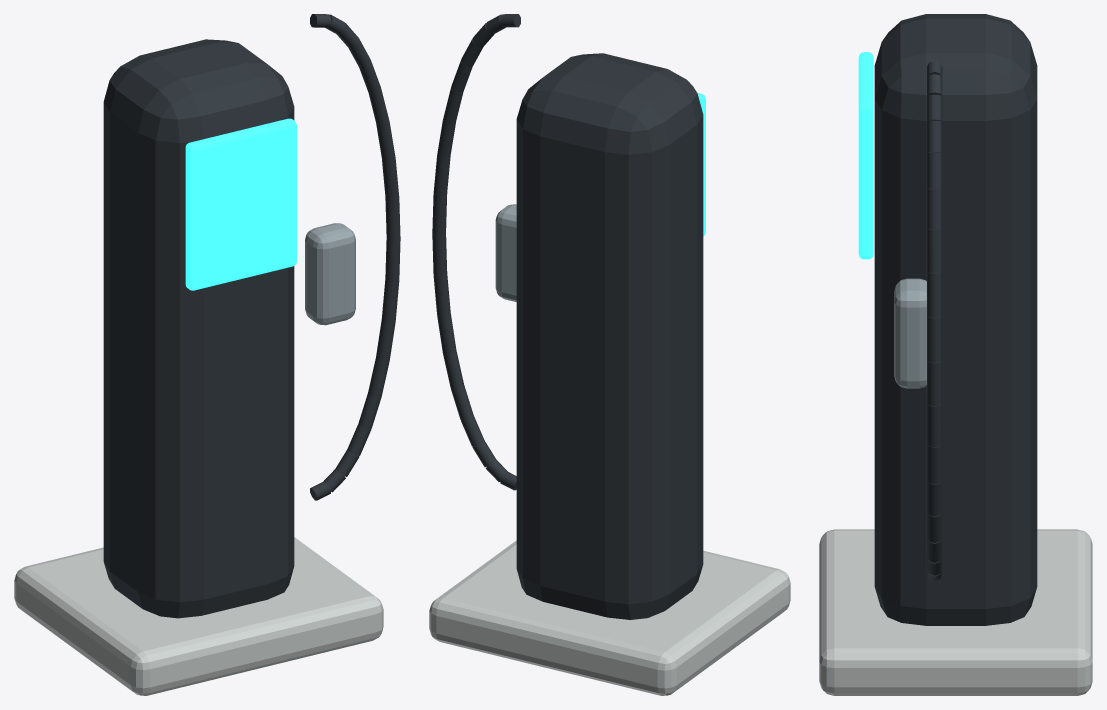
File: ChargePoint.fbx
3 renders of one model, left to right at view 1: azimuth 30°, elevation 25°; view 2: azimuth 150°, elevation 25°; view 3: azimuth 270°, elevation 25°, orthographic. The views are drawn at different scales.
Parts seen in each view (by area): view 1: ChargePoint; view 2: ChargePoint; view 3: ChargePoint.
Boxes of the visible parts, <box> form: ChargePoint: <box>14,14,400,695</box>; ChargePoint: <box>429,14,790,695</box>; ChargePoint: <box>819,14,1092,695</box>.
Size of the model in its own units: 90.8 by 163 by 64.
